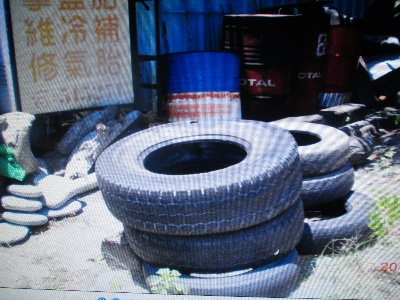bucket: (219, 15, 296, 121), (165, 49, 243, 124)
tire: (96, 118, 304, 235), (122, 197, 306, 270), (141, 247, 303, 296), (263, 118, 354, 178)
